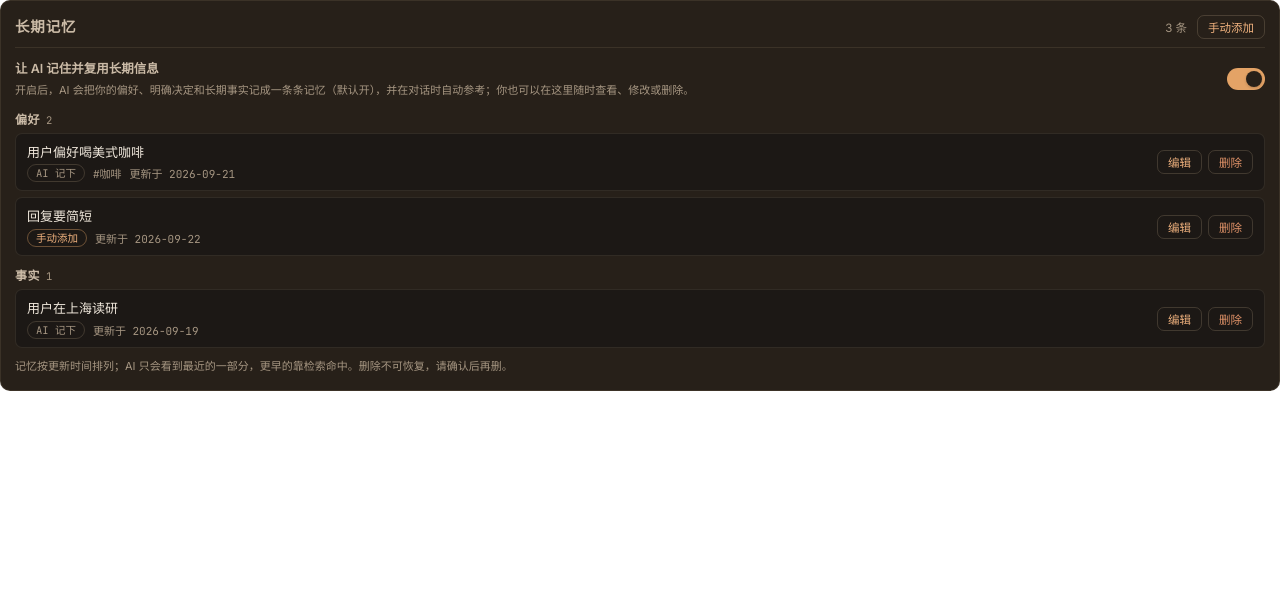
it: MemorySettings 组件（jsdom） › 手动添加：填表提交 POST source 走后端，新条目立即出现
The width and height of the screenshot is (1280, 612).
Step 1. Click the button "手动添加" → (1231, 27), box 1197,15 -> 1265,39
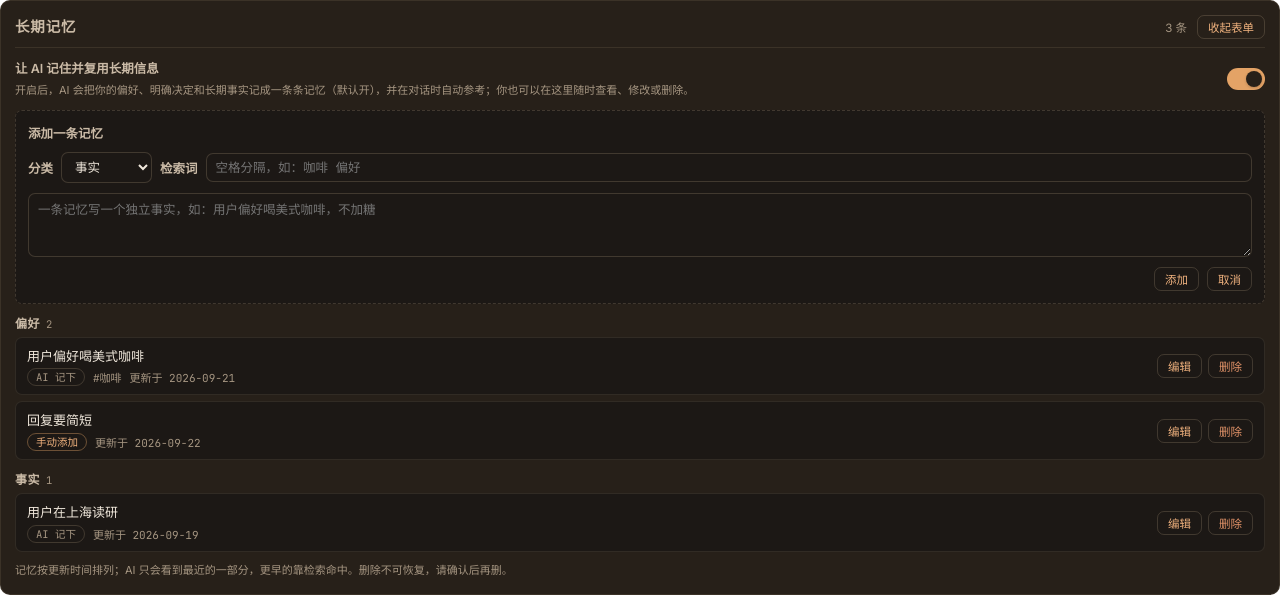
Step 2. Type "用户不吃香菜" into the text box with id "memory-add-content" → (640, 225), box 28,193 -> 1252,257
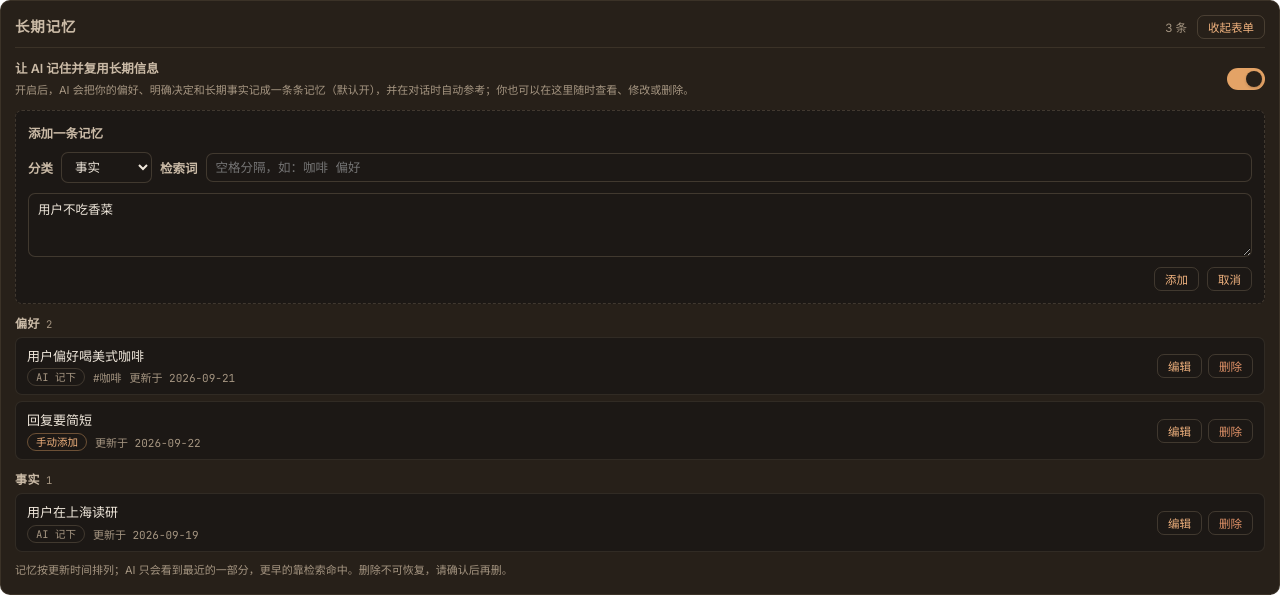
Step 3. Click the button "添加" → (1176, 279), box 1154,267 -> 1199,291
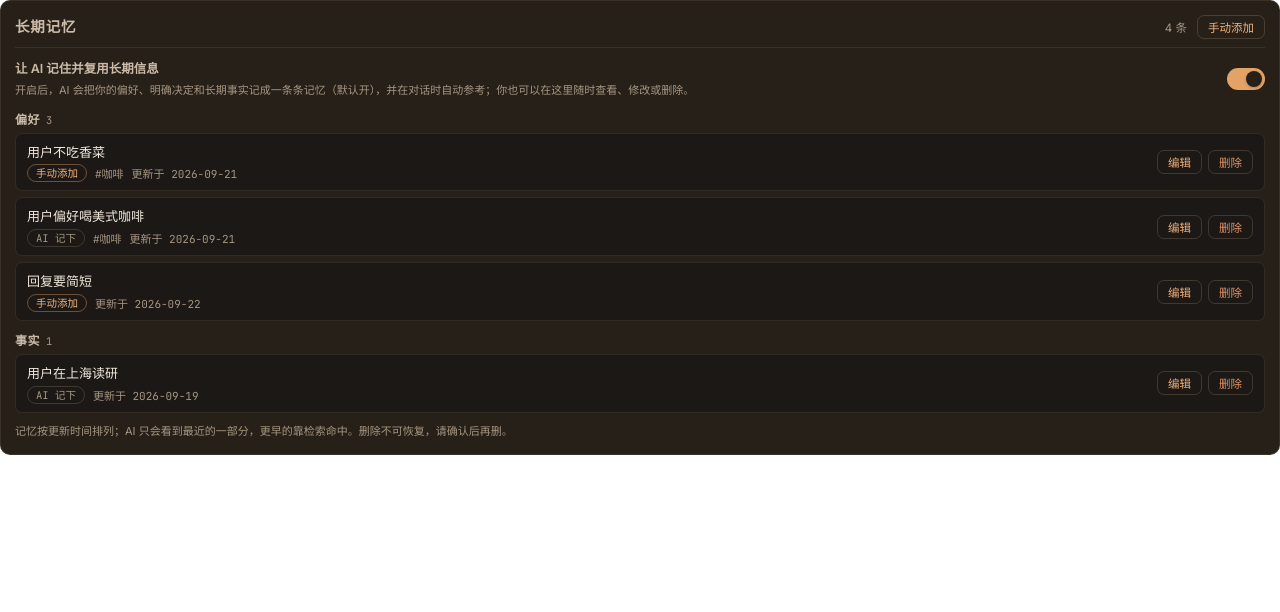
Check: the text "用户不吃香菜" is shown, box 27,144 -> 105,160
